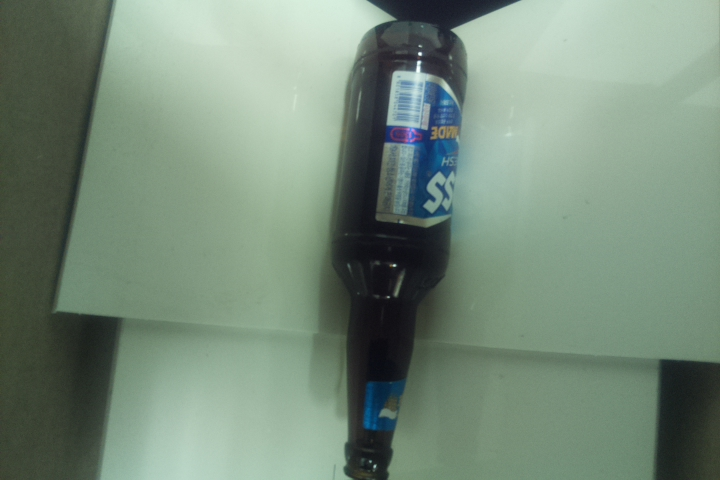makju: (325, 16, 471, 480)
